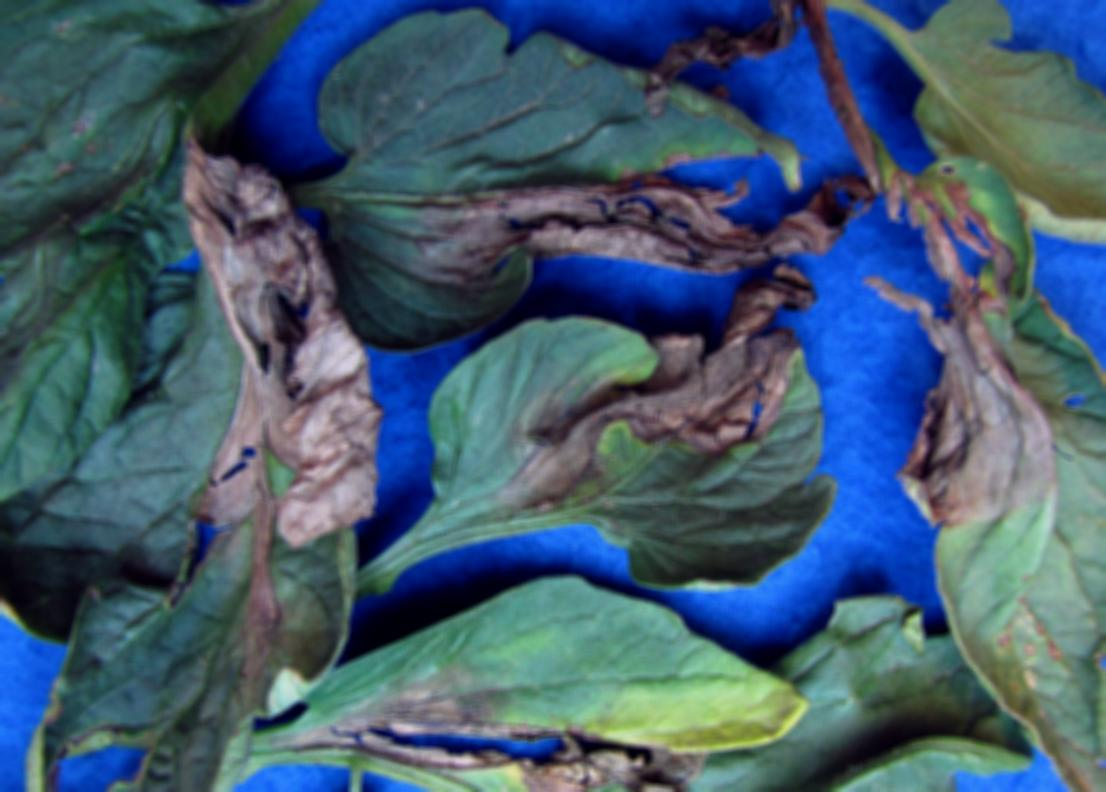Tomato leaf late blight: (0, 220, 387, 792), (247, 16, 845, 360), (874, 192, 1106, 792), (379, 317, 850, 597), (243, 582, 782, 792)
